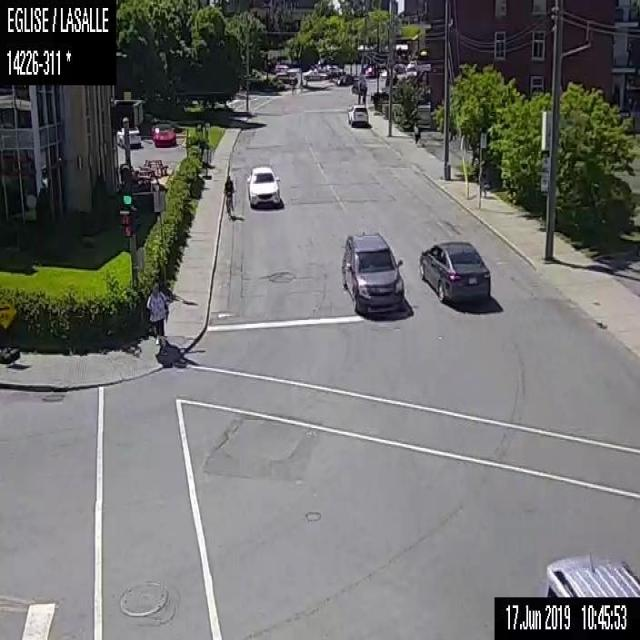cyclist: (223, 175, 234, 217)
pedestrian: (145, 280, 168, 353), (410, 116, 420, 144), (360, 84, 367, 106)
vehicle: (339, 228, 406, 315), (417, 237, 491, 304), (542, 550, 639, 594), (244, 162, 281, 206), (150, 122, 176, 146), (116, 125, 142, 148), (346, 101, 368, 127), (335, 73, 352, 86)
